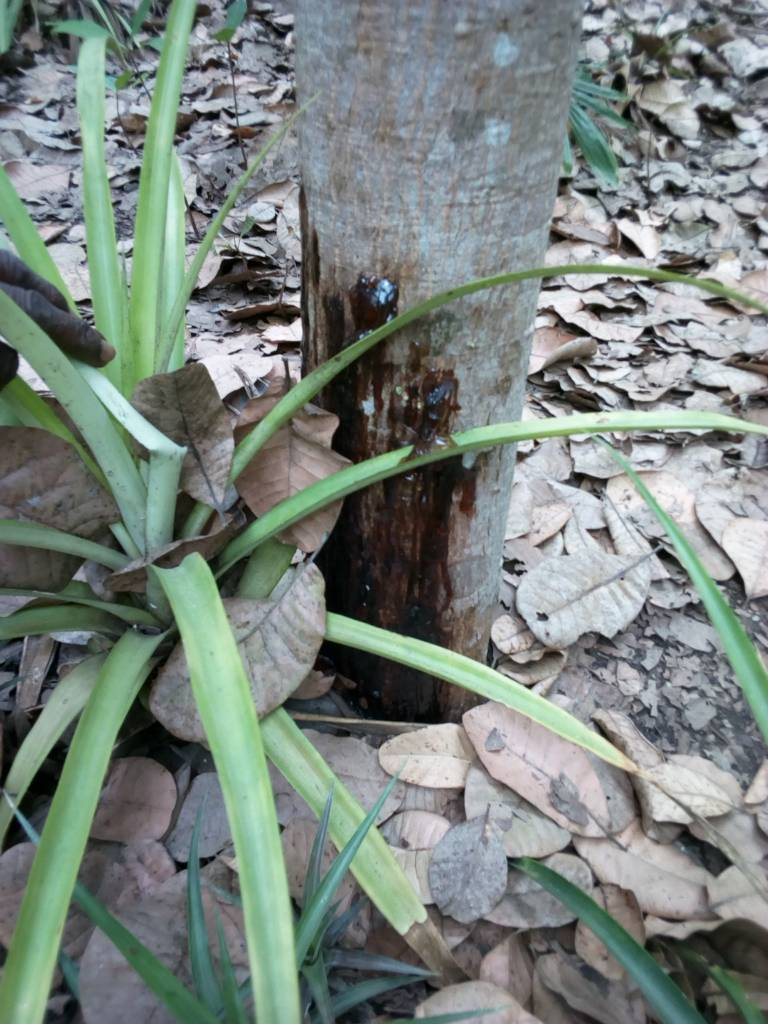Mecocorynus longiceps: (293, 253, 512, 622)
